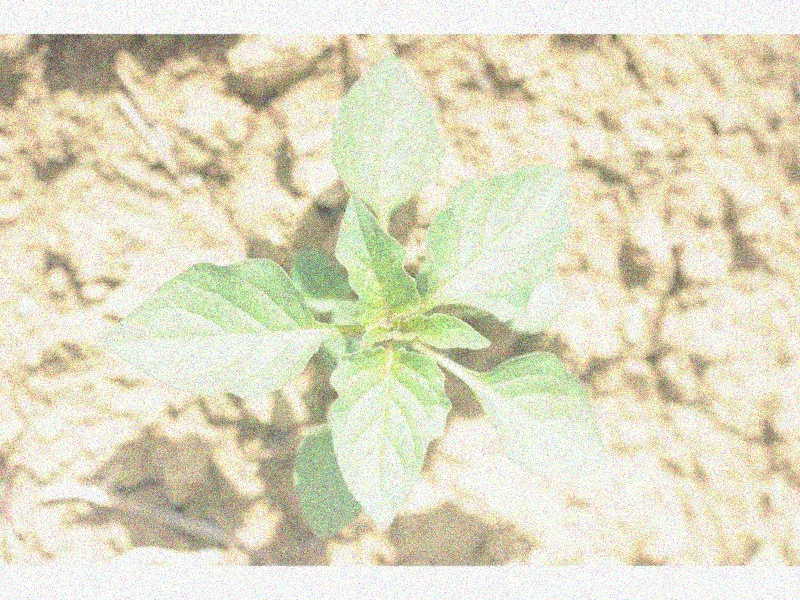nightshade: (101, 50, 611, 538)
